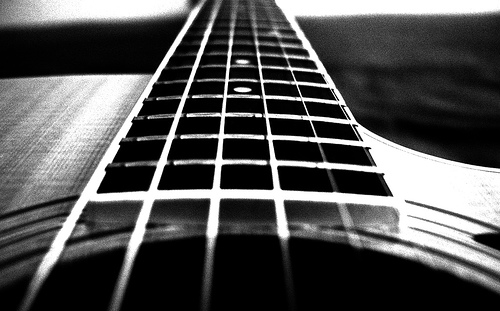guitar: (1, 1, 500, 311)
